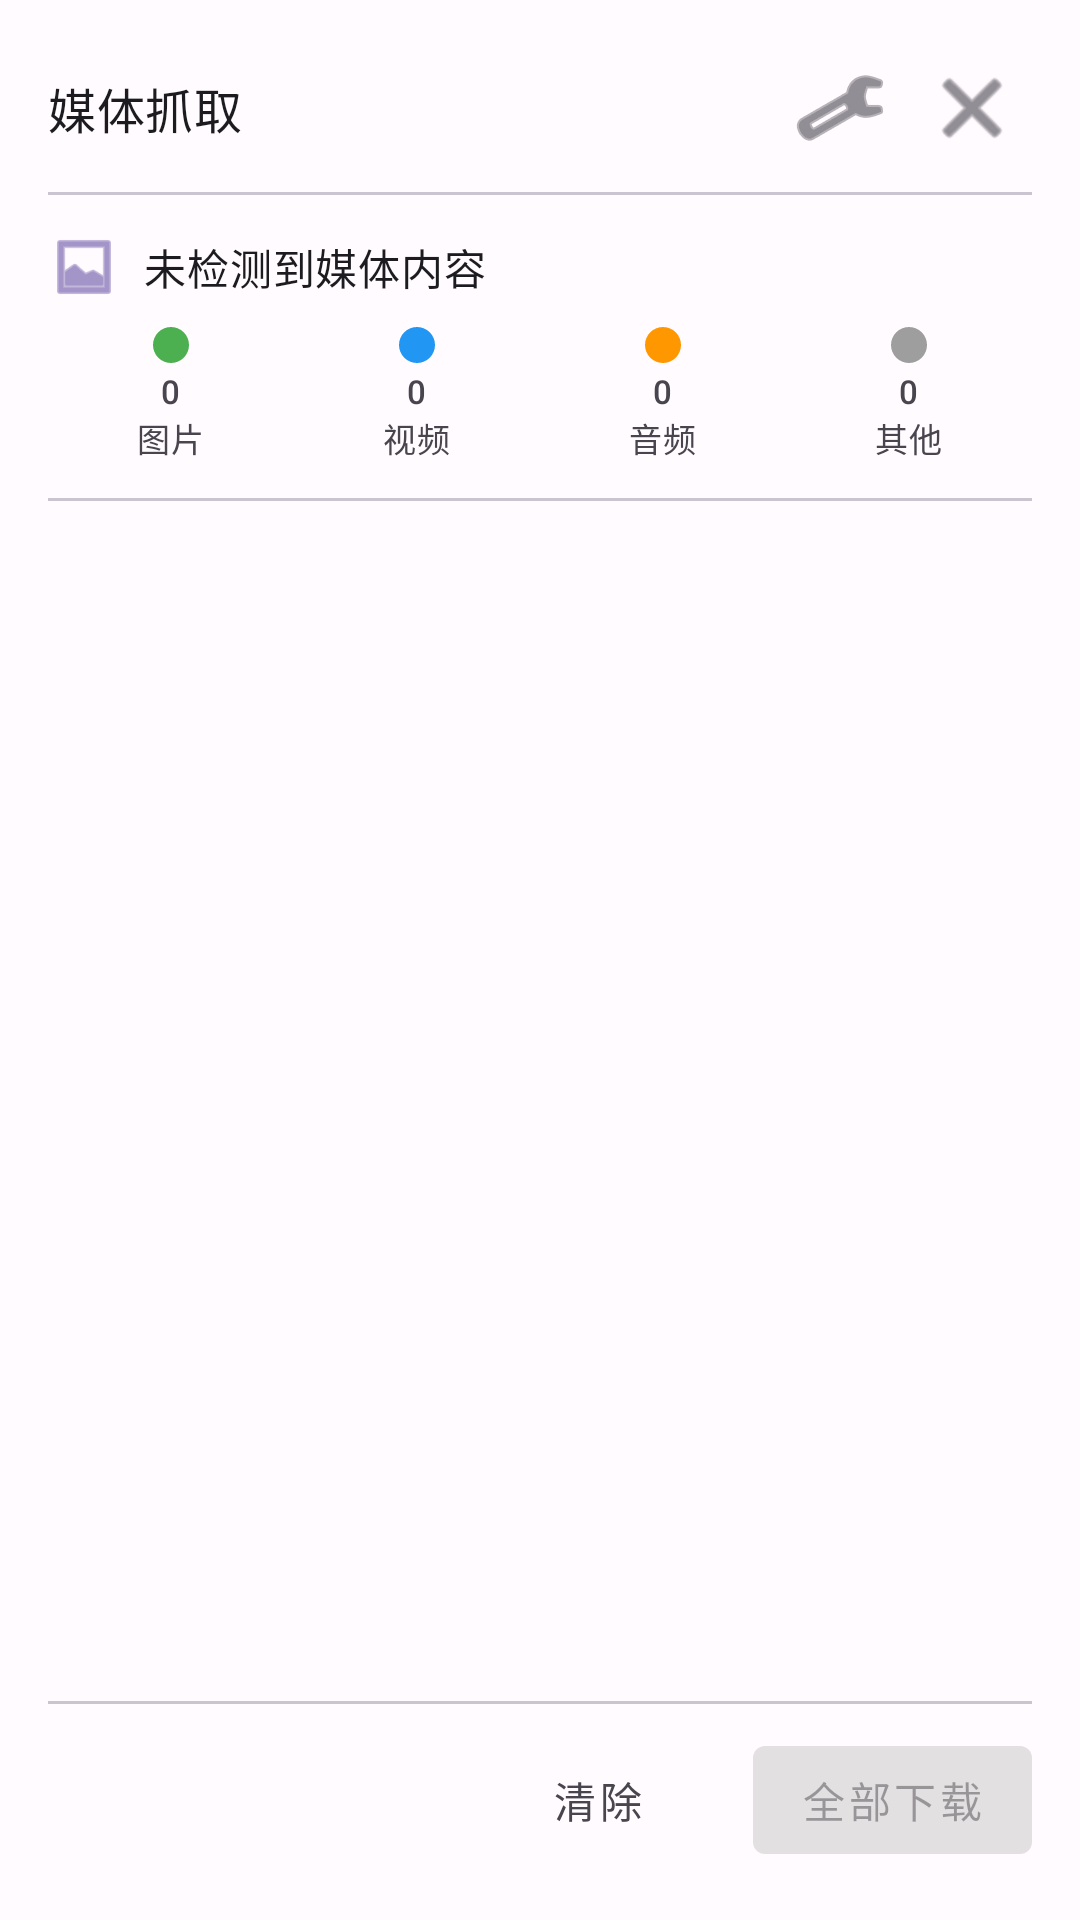

Icon bounding boxes for this 1080x1920 phone screenshot, format [x1, y1, x2, y2]:
gallery: [57, 240, 111, 294]
收起控制面板: [942, 78, 1002, 138]
设置: [797, 75, 883, 141]
